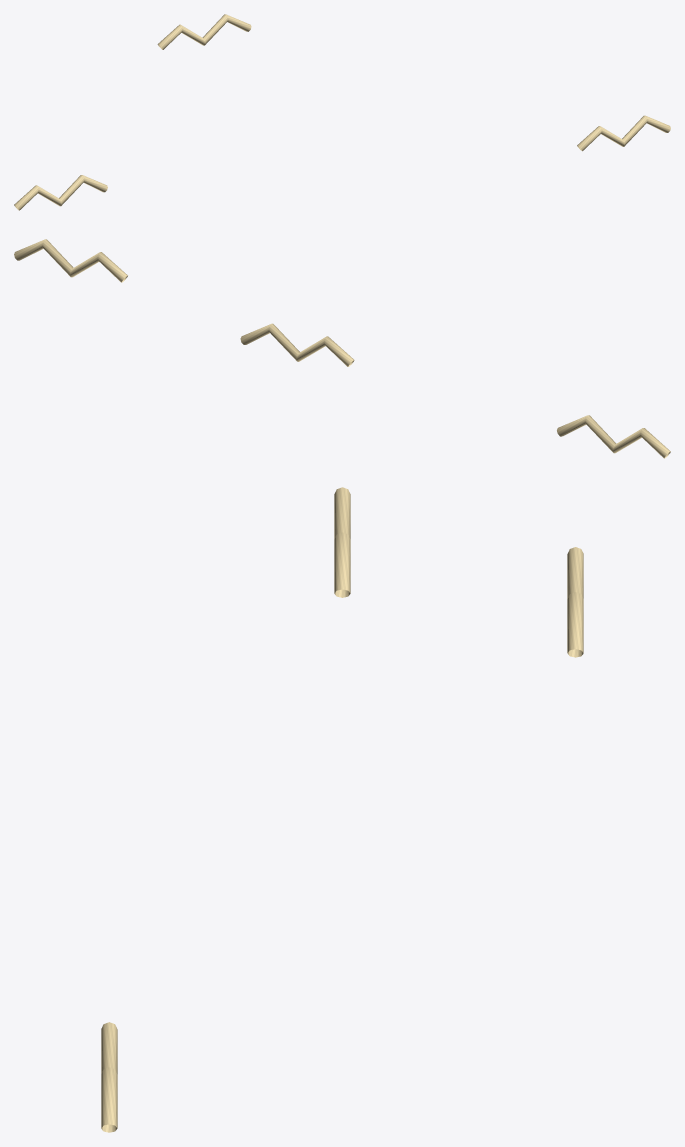
File: Seabirds.fbx
3 views of the same model, one above another, from view 1: azimuth 30°, elevation 25°; view 2: azimuth 150°, elevation 25°; view 3: azimuth 270°, elevation 25° (orthographic). The views are drawn at different scales.
Parts seen in each view (by area): view 1: Seabirds; view 2: Seabirds; view 3: Seabirds.
Part boxes in pixels (bbox=[...]): Seabirds: bbox=[14, 14, 670, 210]; Seabirds: bbox=[14, 239, 670, 458]; Seabirds: bbox=[101, 487, 583, 1132].
Size of the model in its own units: 1183 by 414 by 220.
